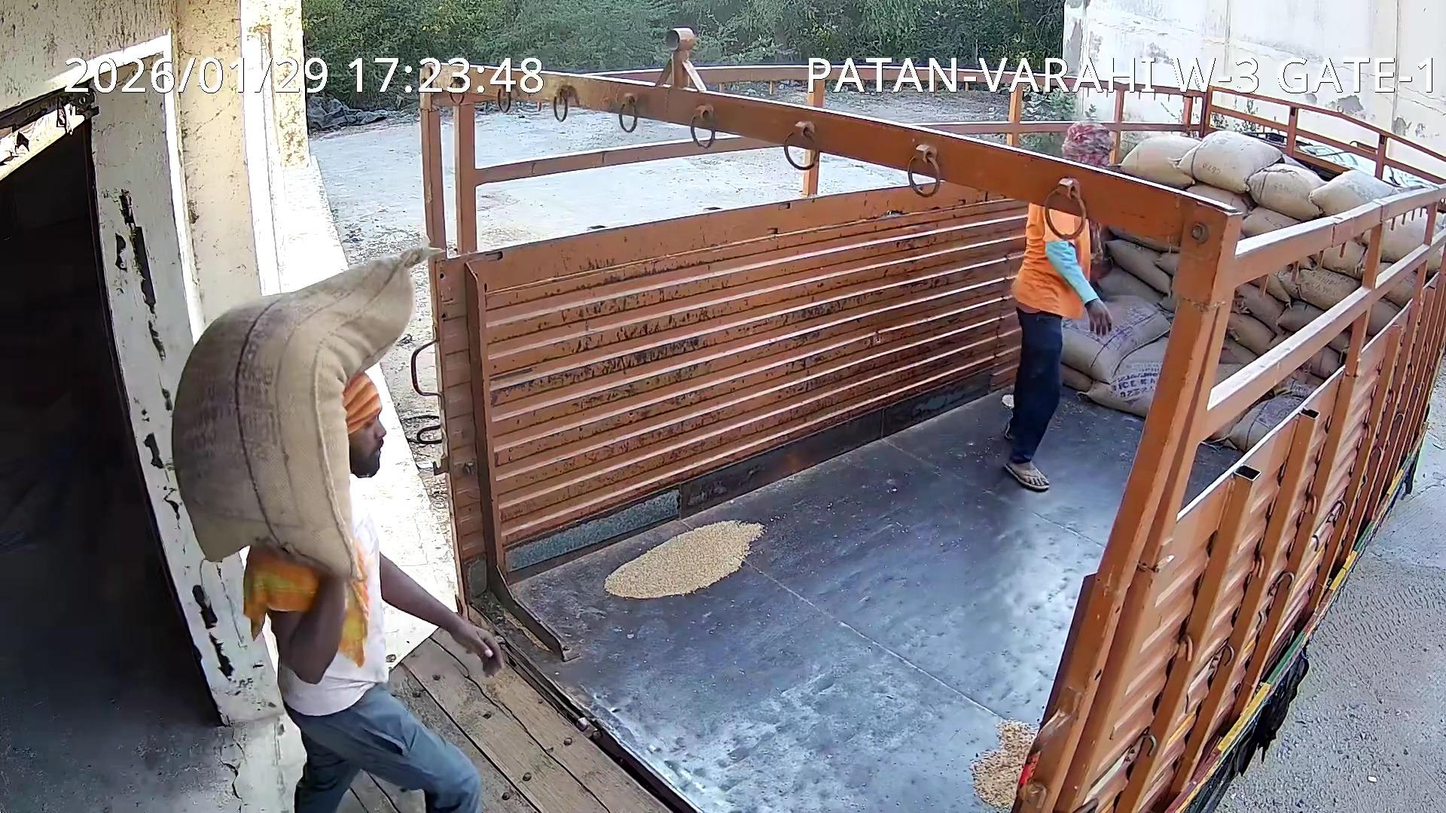Sack: (172, 246, 438, 576)
